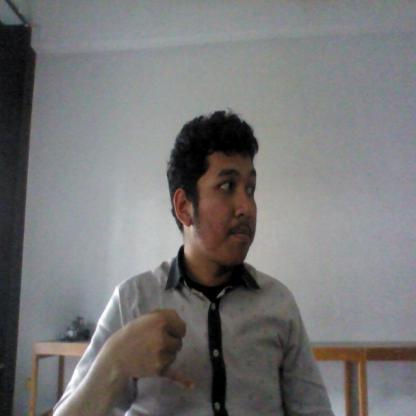J: (104, 303, 200, 399)
